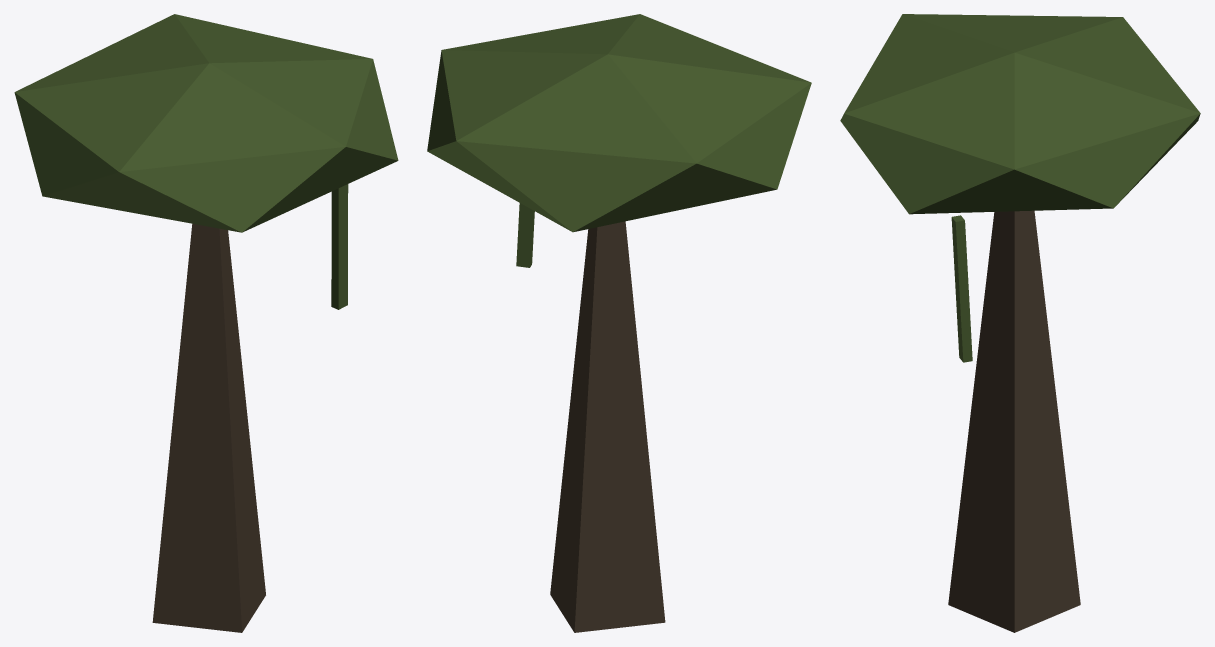
File: tree_swamp_lod2.glb
3 renders of one model, left to right at view 1: azimuth 30°, elevation 25°; view 2: azimuth 150°, elevation 25°; view 3: azimuth 270°, elevation 25°, orthographic.
Parts seen in each view (by area): view 1: tree_swamp_lod2; view 2: tree_swamp_lod2; view 3: tree_swamp_lod2.
Boxes of the visible parts, x1,y1,x2,y2 form: tree_swamp_lod2: (14,14,398,632); tree_swamp_lod2: (427,14,811,632); tree_swamp_lod2: (840,14,1200,632).
Size of what is drawn, in the model's own units: 5.54 by 8.73 by 5.16.
1 material, 1 textured.
